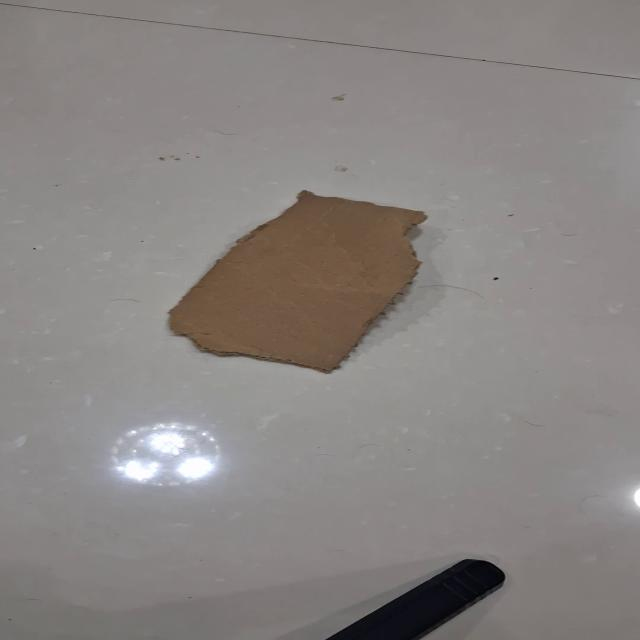paper: (165, 189, 428, 374)
